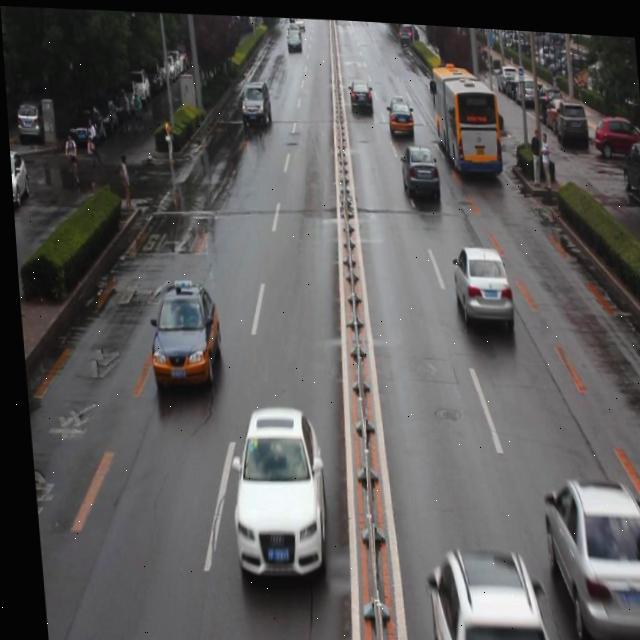car: (217, 397, 323, 582), (535, 468, 640, 635), (417, 538, 541, 640), (143, 277, 216, 390), (447, 238, 508, 323), (397, 142, 437, 196), (384, 94, 410, 132)
van: (428, 56, 500, 172)
